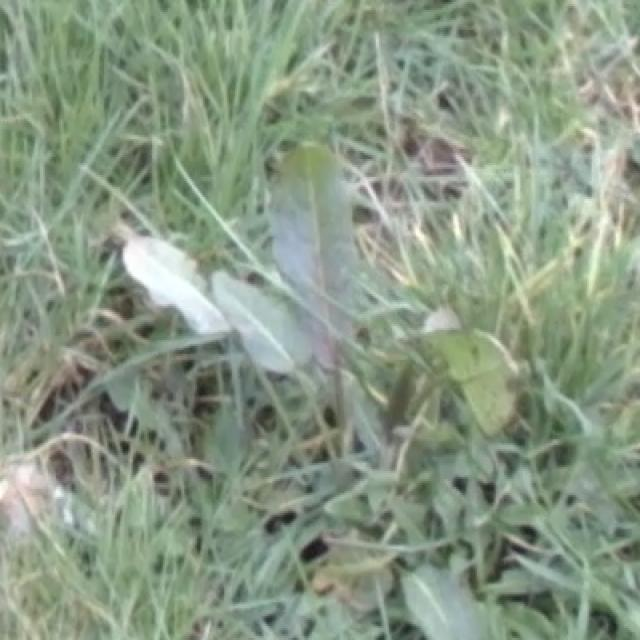organic waste: (120, 132, 527, 524), (366, 531, 500, 638)
